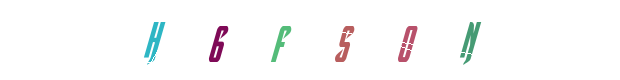0: (327, 0, 407, 80)
6: (178, 0, 258, 80)
F: (269, 0, 349, 80)
H: (114, 0, 194, 80)
N: (354, 0, 434, 80)
S: (276, 0, 356, 80)
